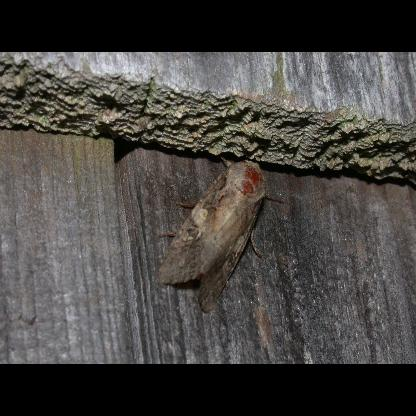Fall Armyworm Moth: (155, 152, 287, 316)
